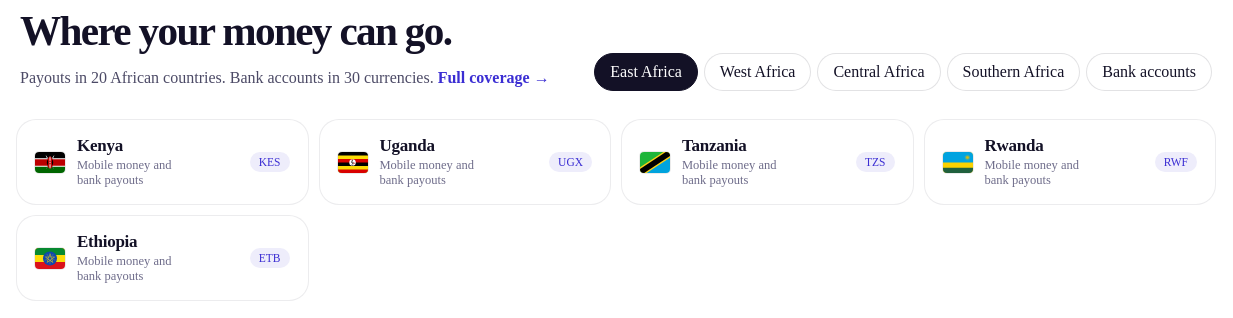
Test: CoverageSection › switching region tab shows that region's stops
This screenshot has width=1233, height=318.
Click the button "West Africa" at (758, 72), box [704, 53, 811, 91]
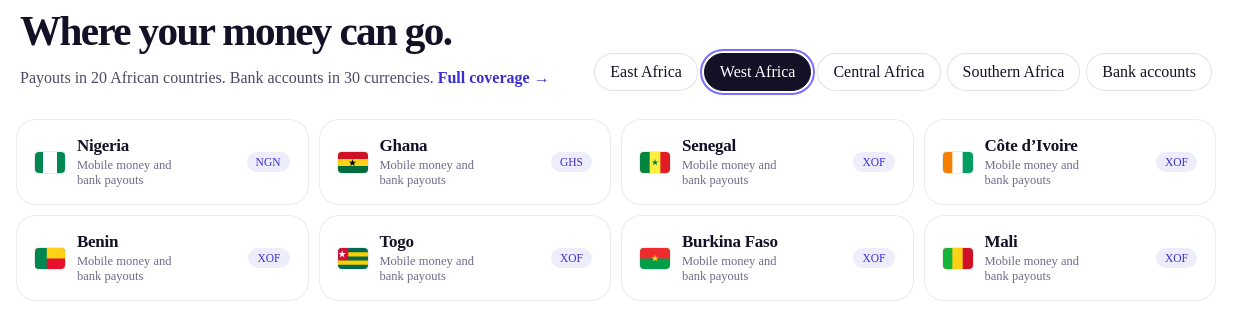
Expected: the text "Nigeria" is shown, [77, 136, 129, 155]
Expected: the link "Kenya" is gone
